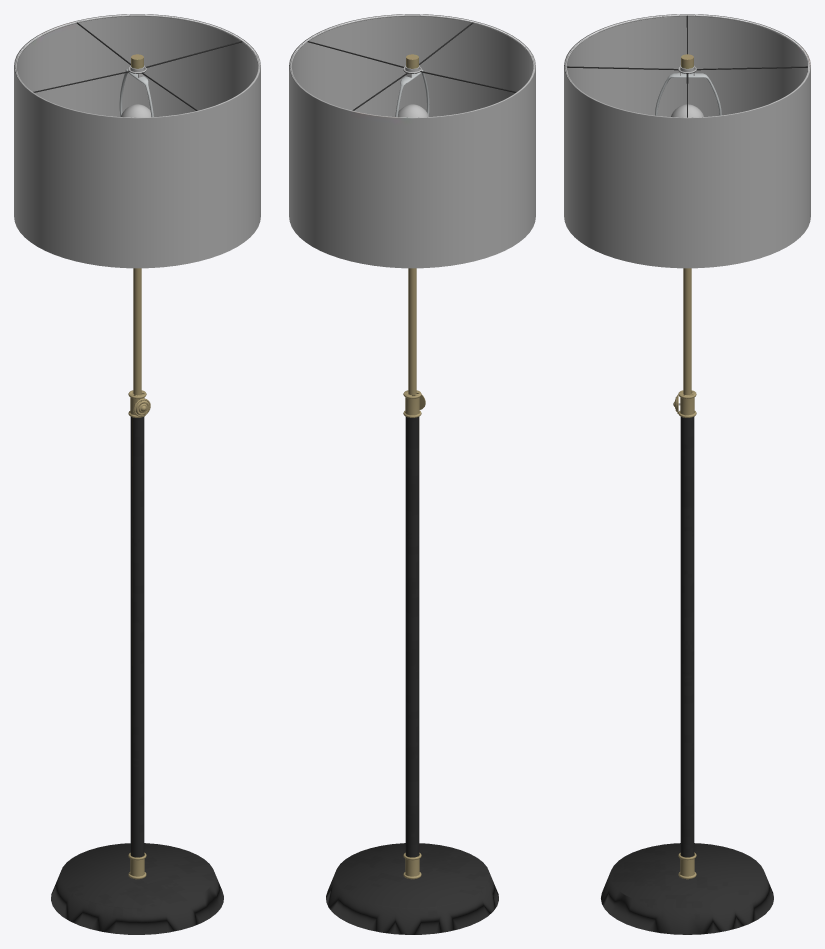
Rendered from B07HKF59YX.glb.
3 renders of one model, left to right at view 1: azimuth 30°, elevation 25°; view 2: azimuth 150°, elevation 25°; view 3: azimuth 270°, elevation 25°, orthographic.
Visible parts, largest first — view 1: RootNode; view 2: RootNode; view 3: RootNode.
Boxes of the visible parts, x1,y1,x2,y2 form: RootNode: (14,14,260,934); RootNode: (289,14,535,934); RootNode: (564,14,810,934).
Size of the model in its own units: 0.4036 by 1.52 by 0.4036.
Materials: 1 (1 with a texture image).
